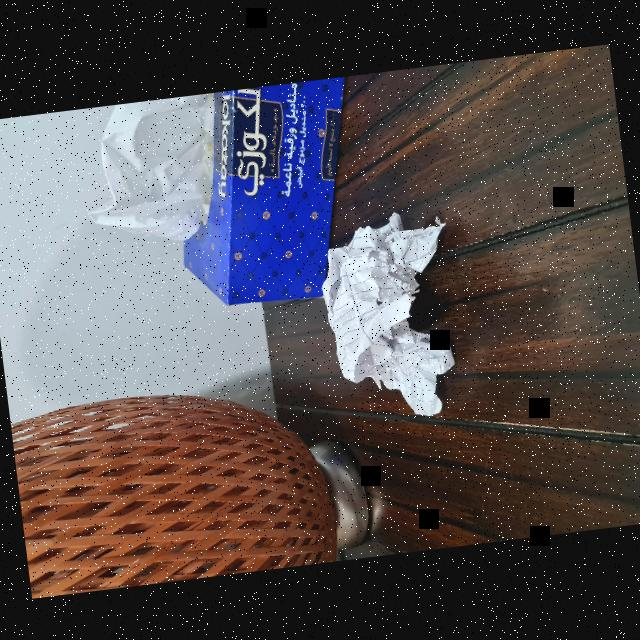scrap_paper: (308, 211, 462, 425)
